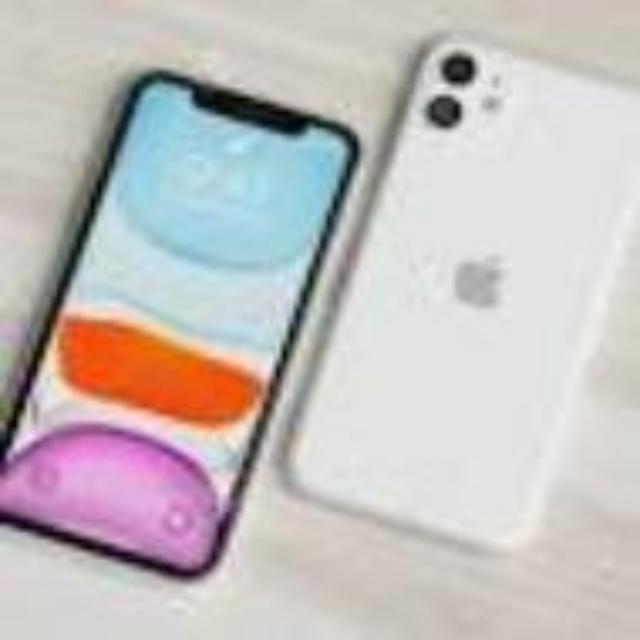Phone: (1, 64, 363, 576), (282, 41, 640, 546)
